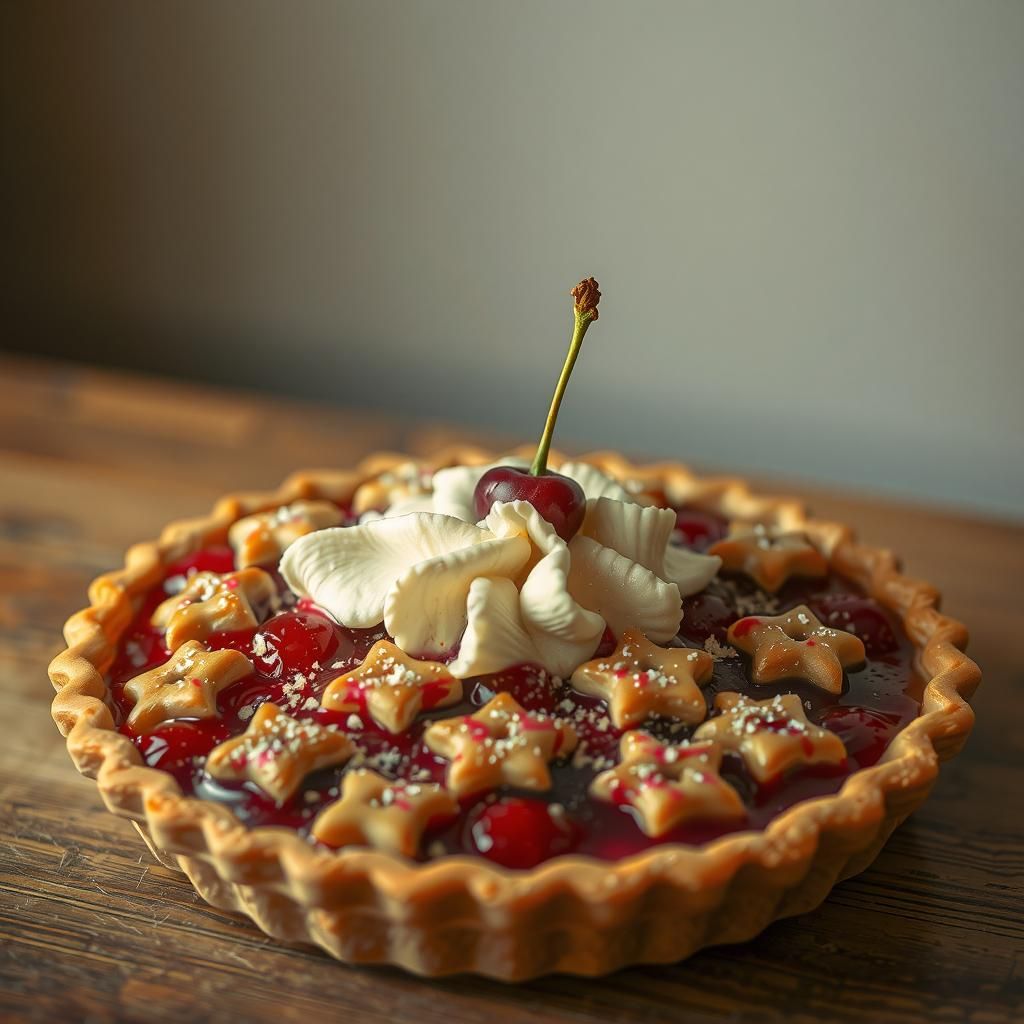pie: (43, 436, 984, 993)
